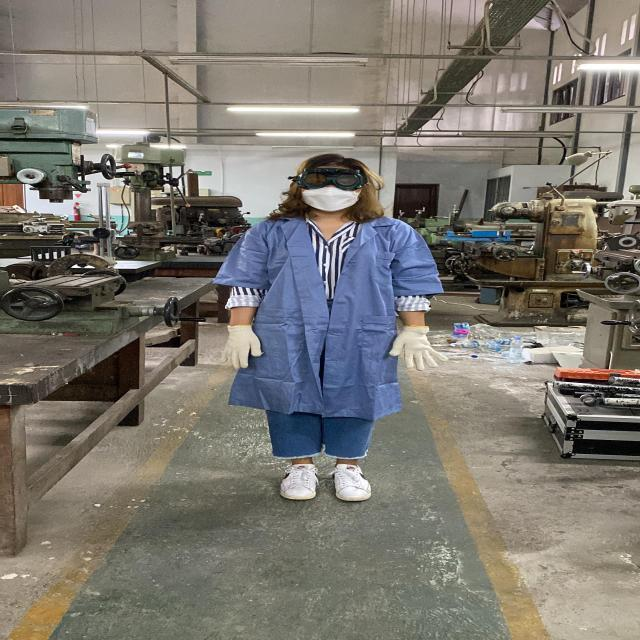glasses: (283, 166, 372, 192)
